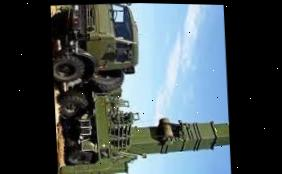truck: (48, 1, 146, 174)
